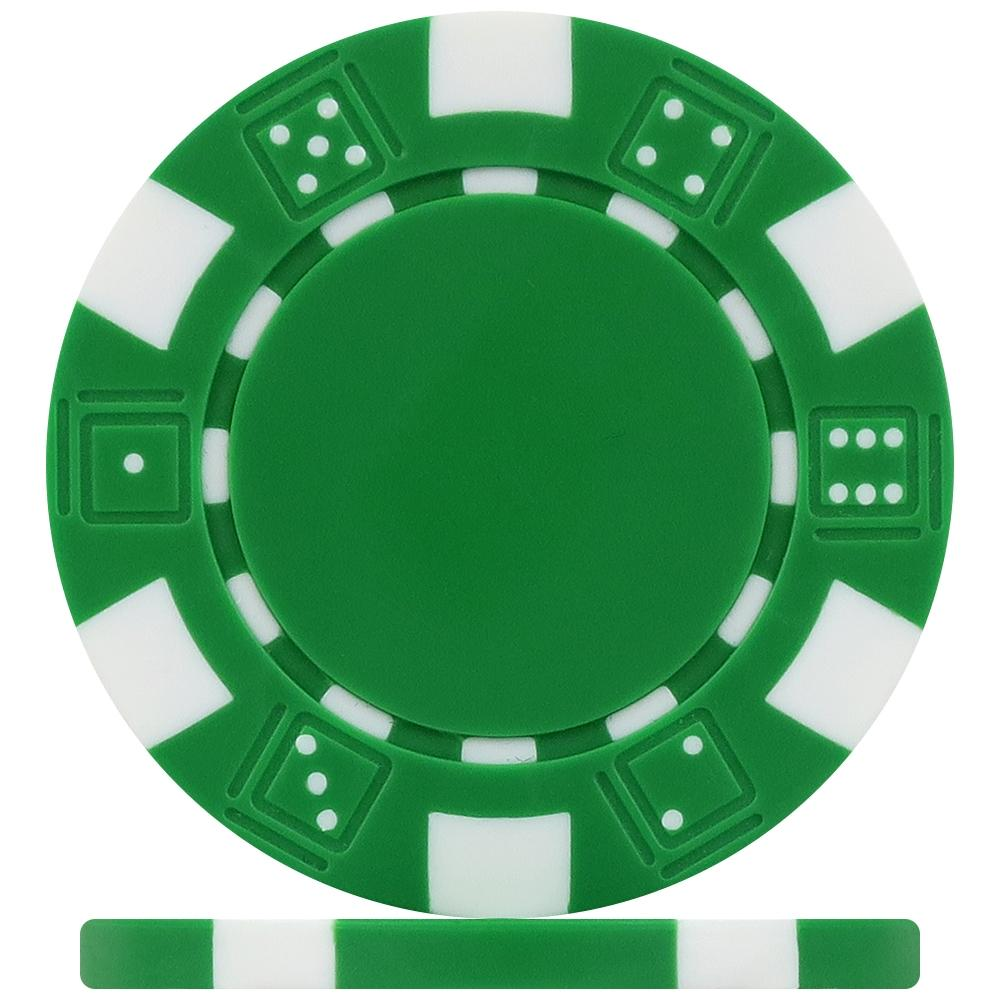chip-green: (47, 12, 953, 917), (80, 920, 920, 988)
